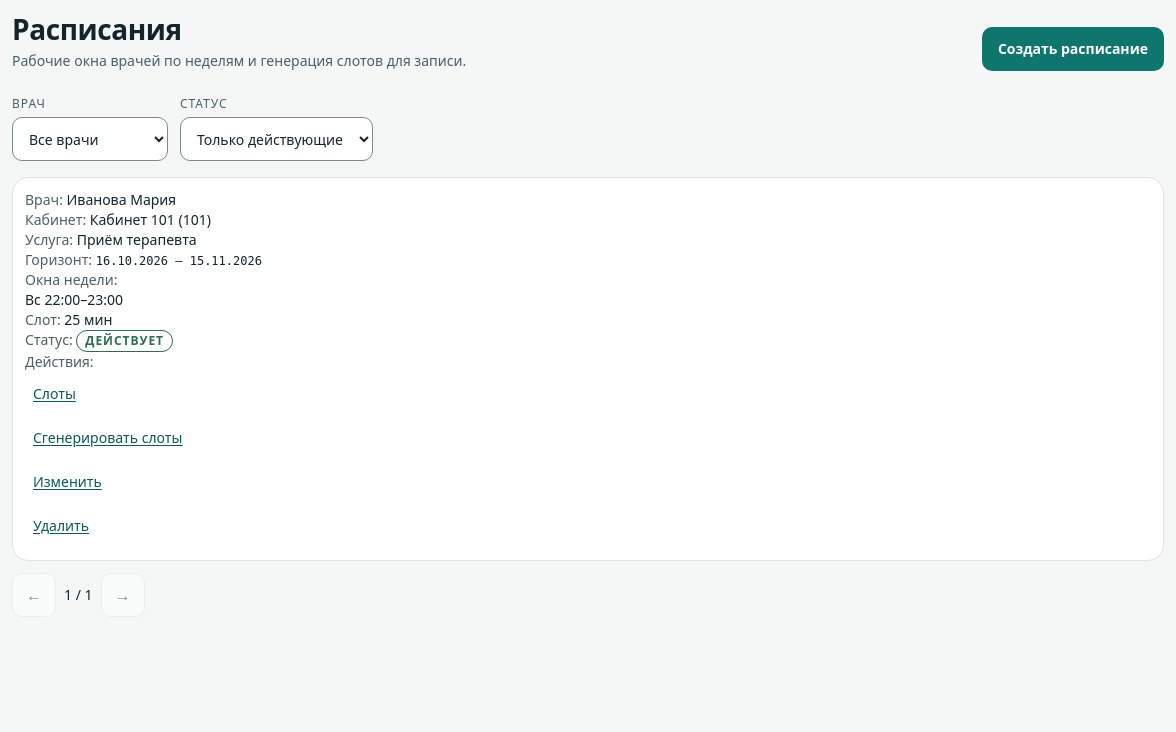
Scenario: SchedulesPanel › should say that the filters leave nothing when a doctor is chosen and no schedule matches
This screenshot has width=1176, height=732.
Select "Иванова Мария" in the dropdown labelled "Врач" at (90, 139), box [12,117,168,161]
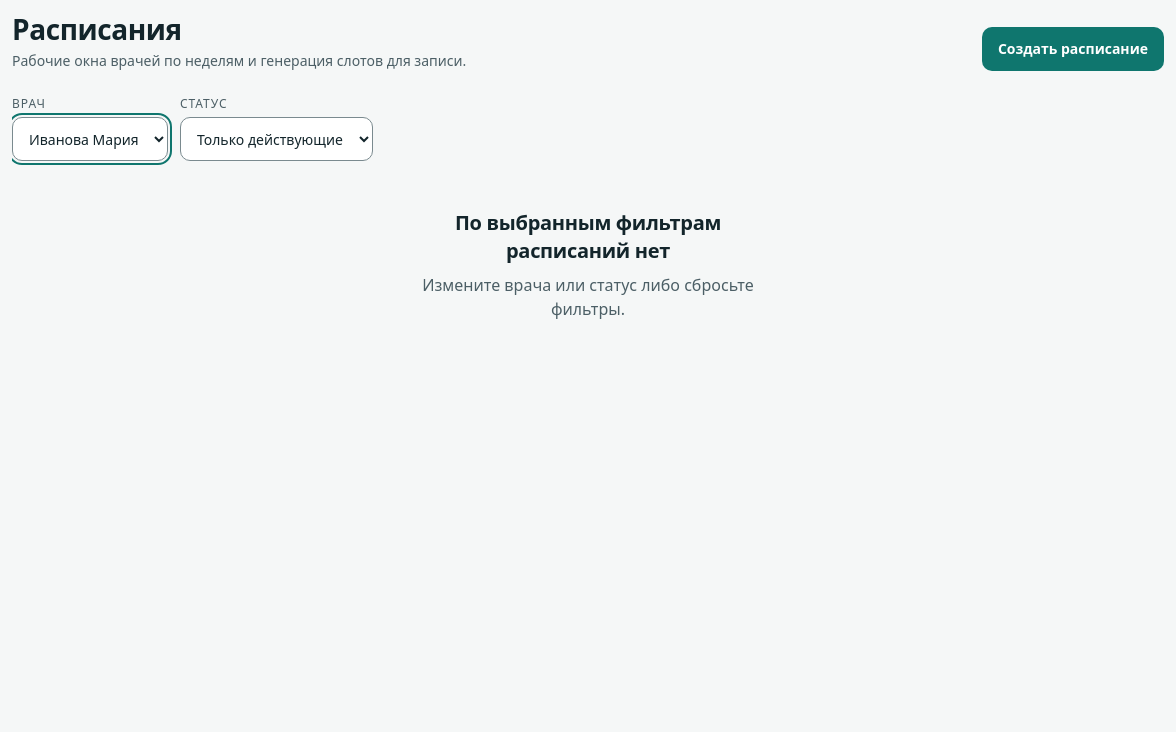
Check: the element with test id "empty-state" shows "По выбранным фильтрам расписаний нет", box [455,209,721,264]
